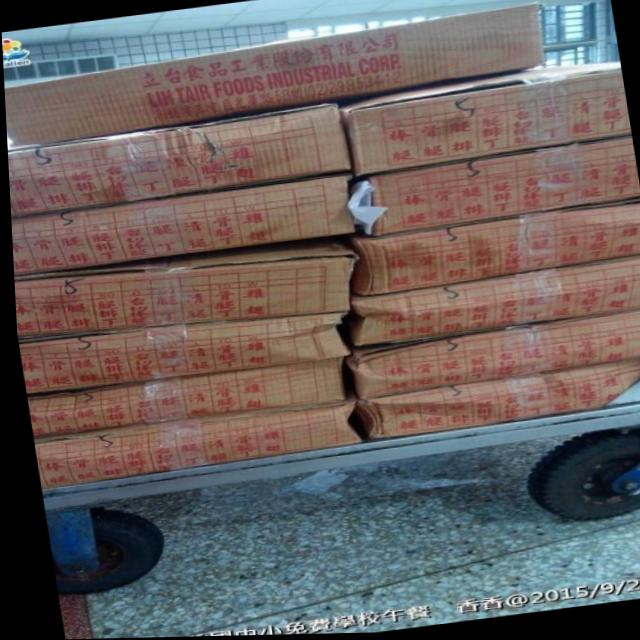box: (3, 4, 544, 145), (6, 103, 348, 218), (9, 174, 354, 277), (11, 239, 357, 337), (337, 64, 630, 179), (30, 401, 359, 490), (344, 201, 640, 299), (340, 256, 640, 348), (367, 138, 639, 239), (342, 311, 640, 402), (15, 313, 345, 394), (23, 358, 342, 437), (352, 360, 640, 441)
